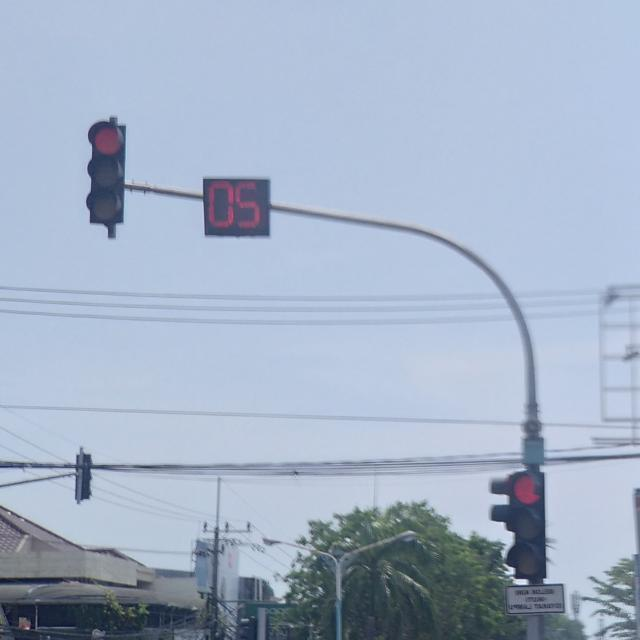red_light: (489, 469, 544, 578), (84, 114, 124, 236)
